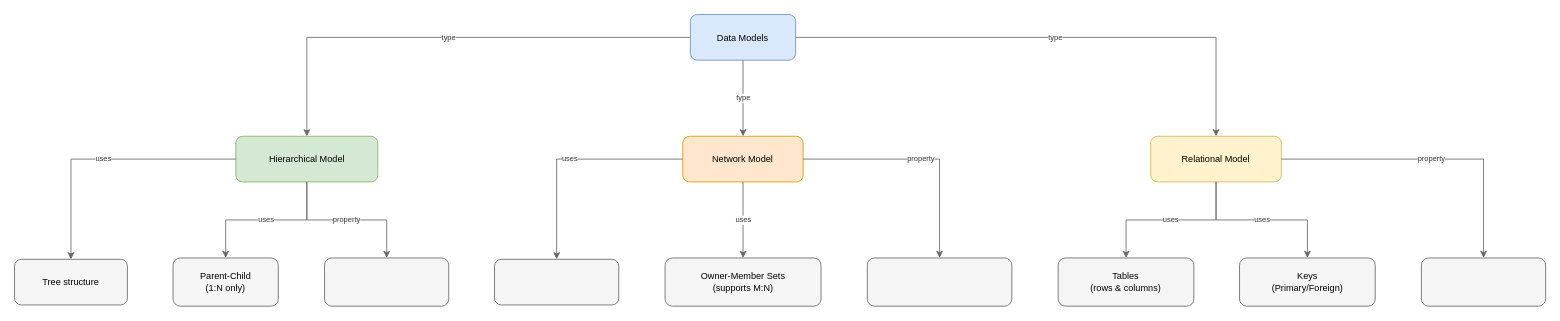
Some shapes in this 1560 by 321 pixel diagram are drawn without their labels. The shapes that lost their labels are listed below. From the top down, each one's centre as x and y in pixels, then its label:
the point at 386,281: Fast navigation, rigid structure
the point at 556,281: Graph structure
the point at 939,281: Flexible but complex navigation
the point at 1483,281: SQL, set-based operations
